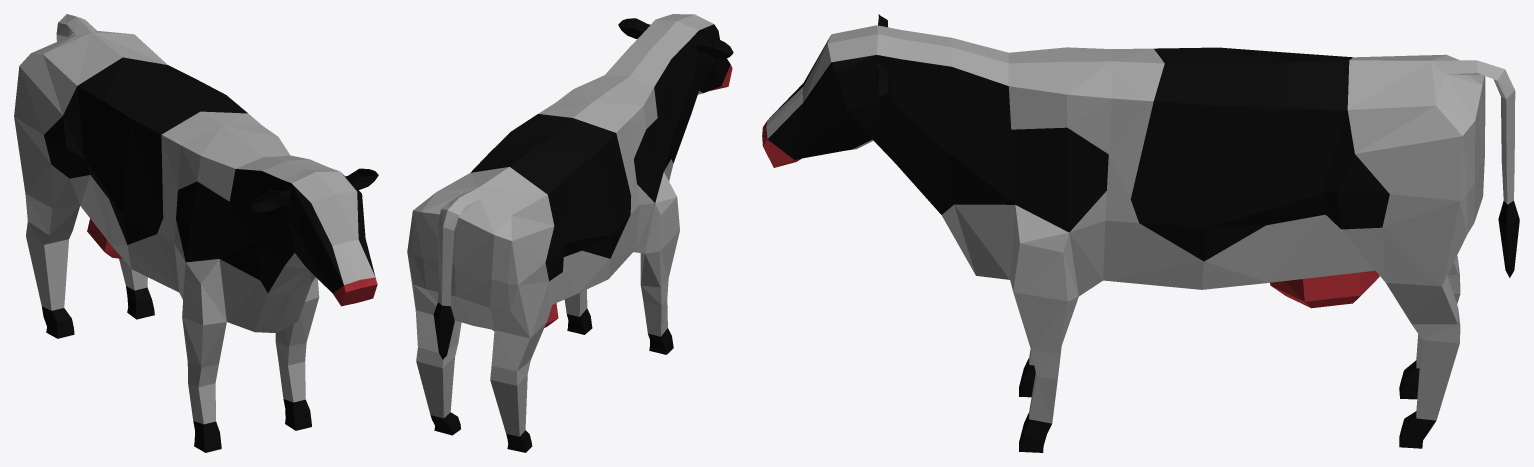
File: Cow.obj
3 renders of one model, left to right at view 1: azimuth 30°, elevation 25°; view 2: azimuth 150°, elevation 25°; view 3: azimuth 270°, elevation 25°, orthographic. The views are drawn at different scales.
Visible parts, largest first — view 1: Cow; view 2: Cow; view 3: Cow.
Part boxes in pixels (x1,y1,x2,y2): Cow: (14, 14, 378, 452); Cow: (407, 14, 733, 452); Cow: (762, 14, 1519, 452).
Size of the model in its own units: 2.27 by 5.15 by 9.17.
